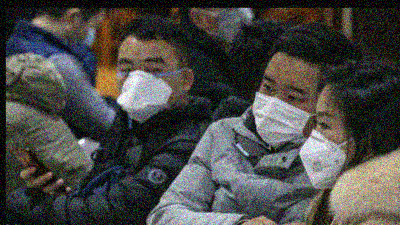with_mask: (249, 72, 310, 148), (295, 108, 347, 192), (116, 55, 174, 122), (205, 8, 253, 50), (67, 18, 101, 59)
